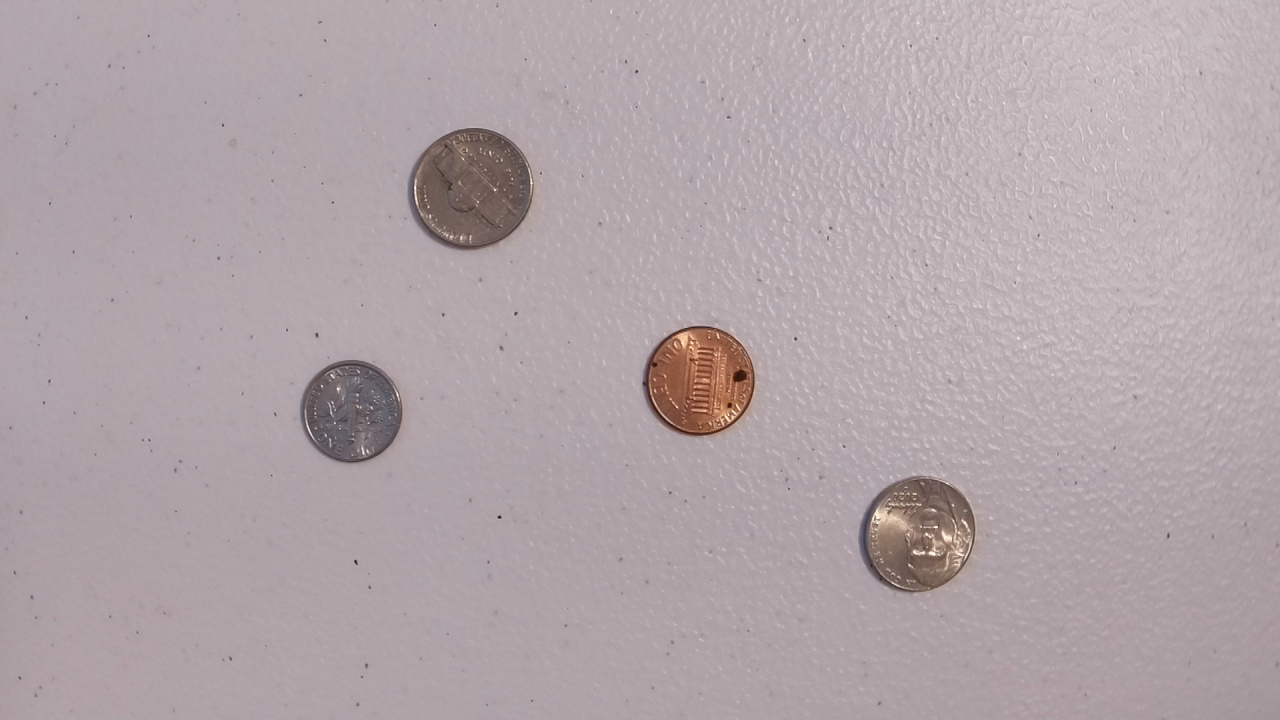dime: (298, 356, 406, 466)
nickel: (402, 122, 538, 254), (856, 470, 982, 598)
penny: (640, 321, 760, 439)
